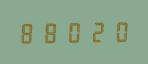eight: (18, 20, 39, 44), (40, 20, 61, 44)
two: (84, 19, 105, 43)
zero: (106, 19, 127, 43), (62, 20, 83, 43)
